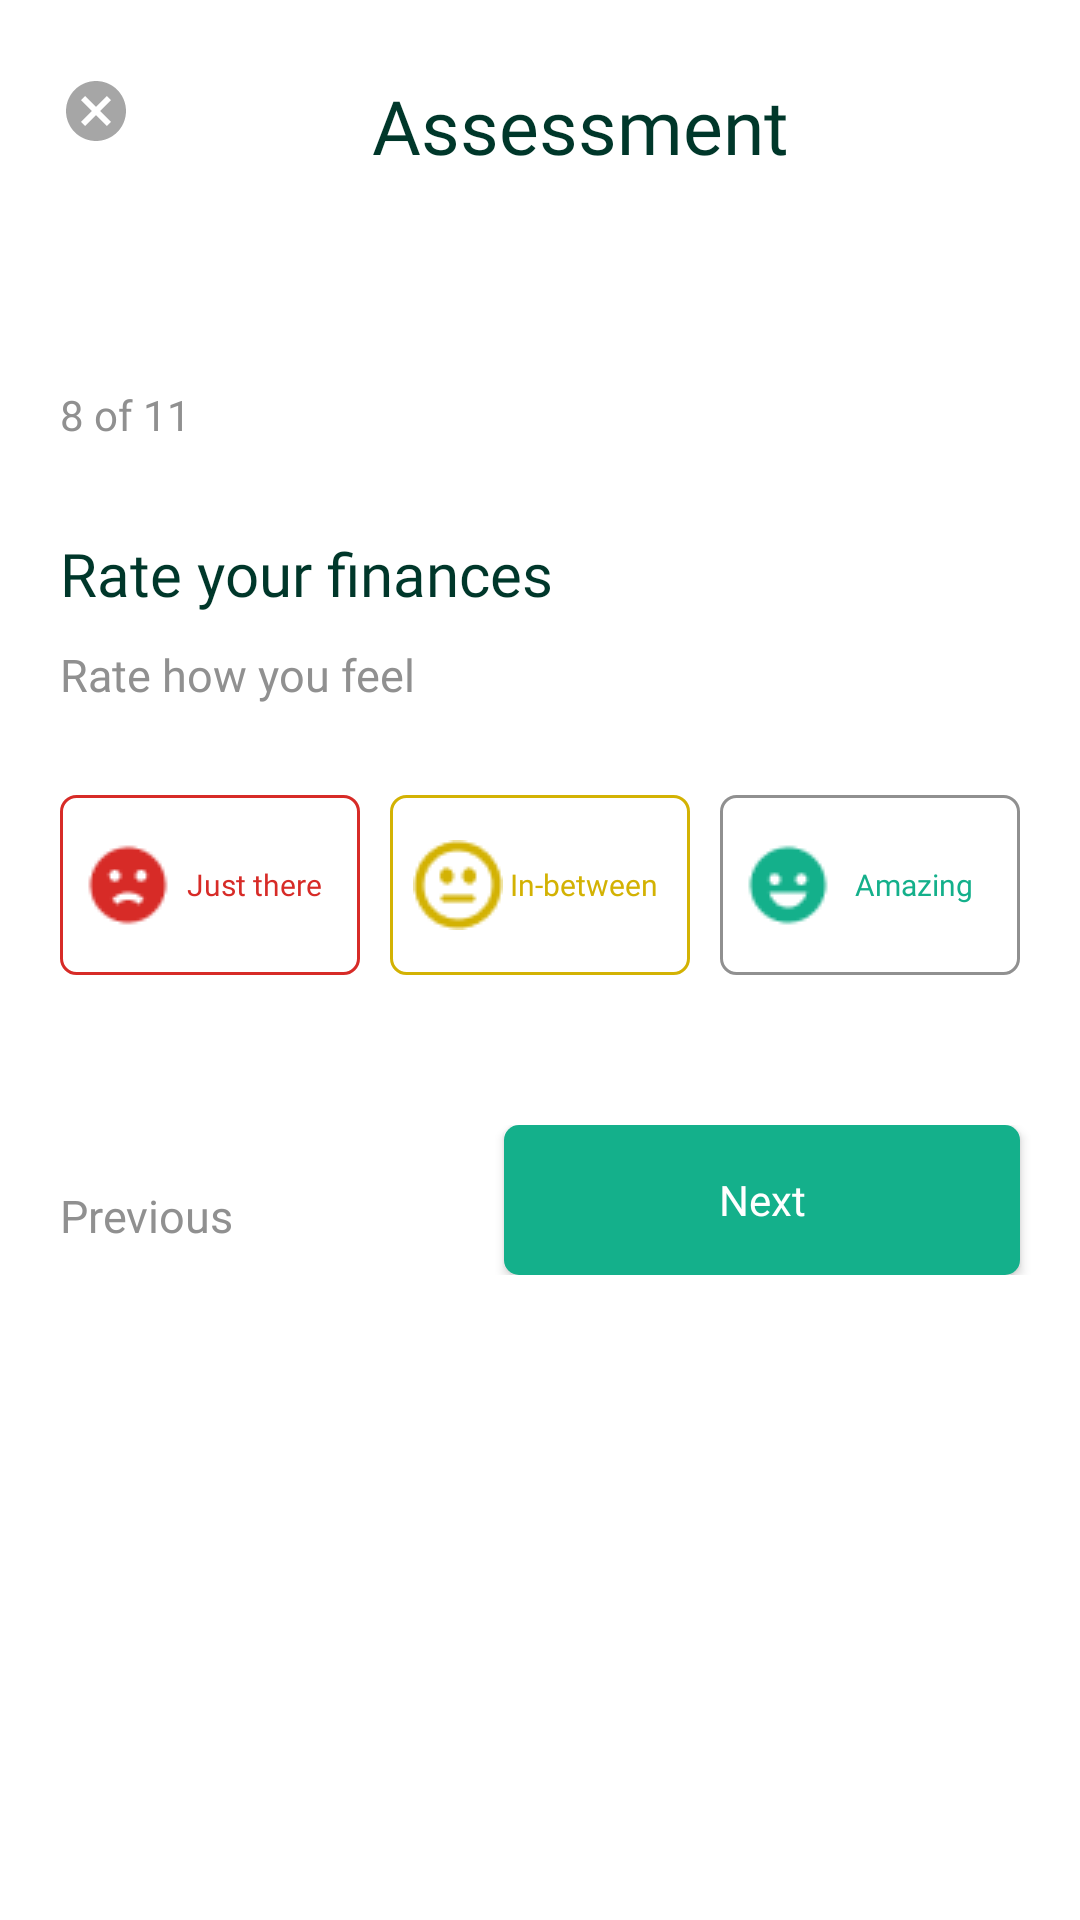

Where to tap for icons on this 1080px×1920px app screen, as (x,y):
cancel: (96,111)
